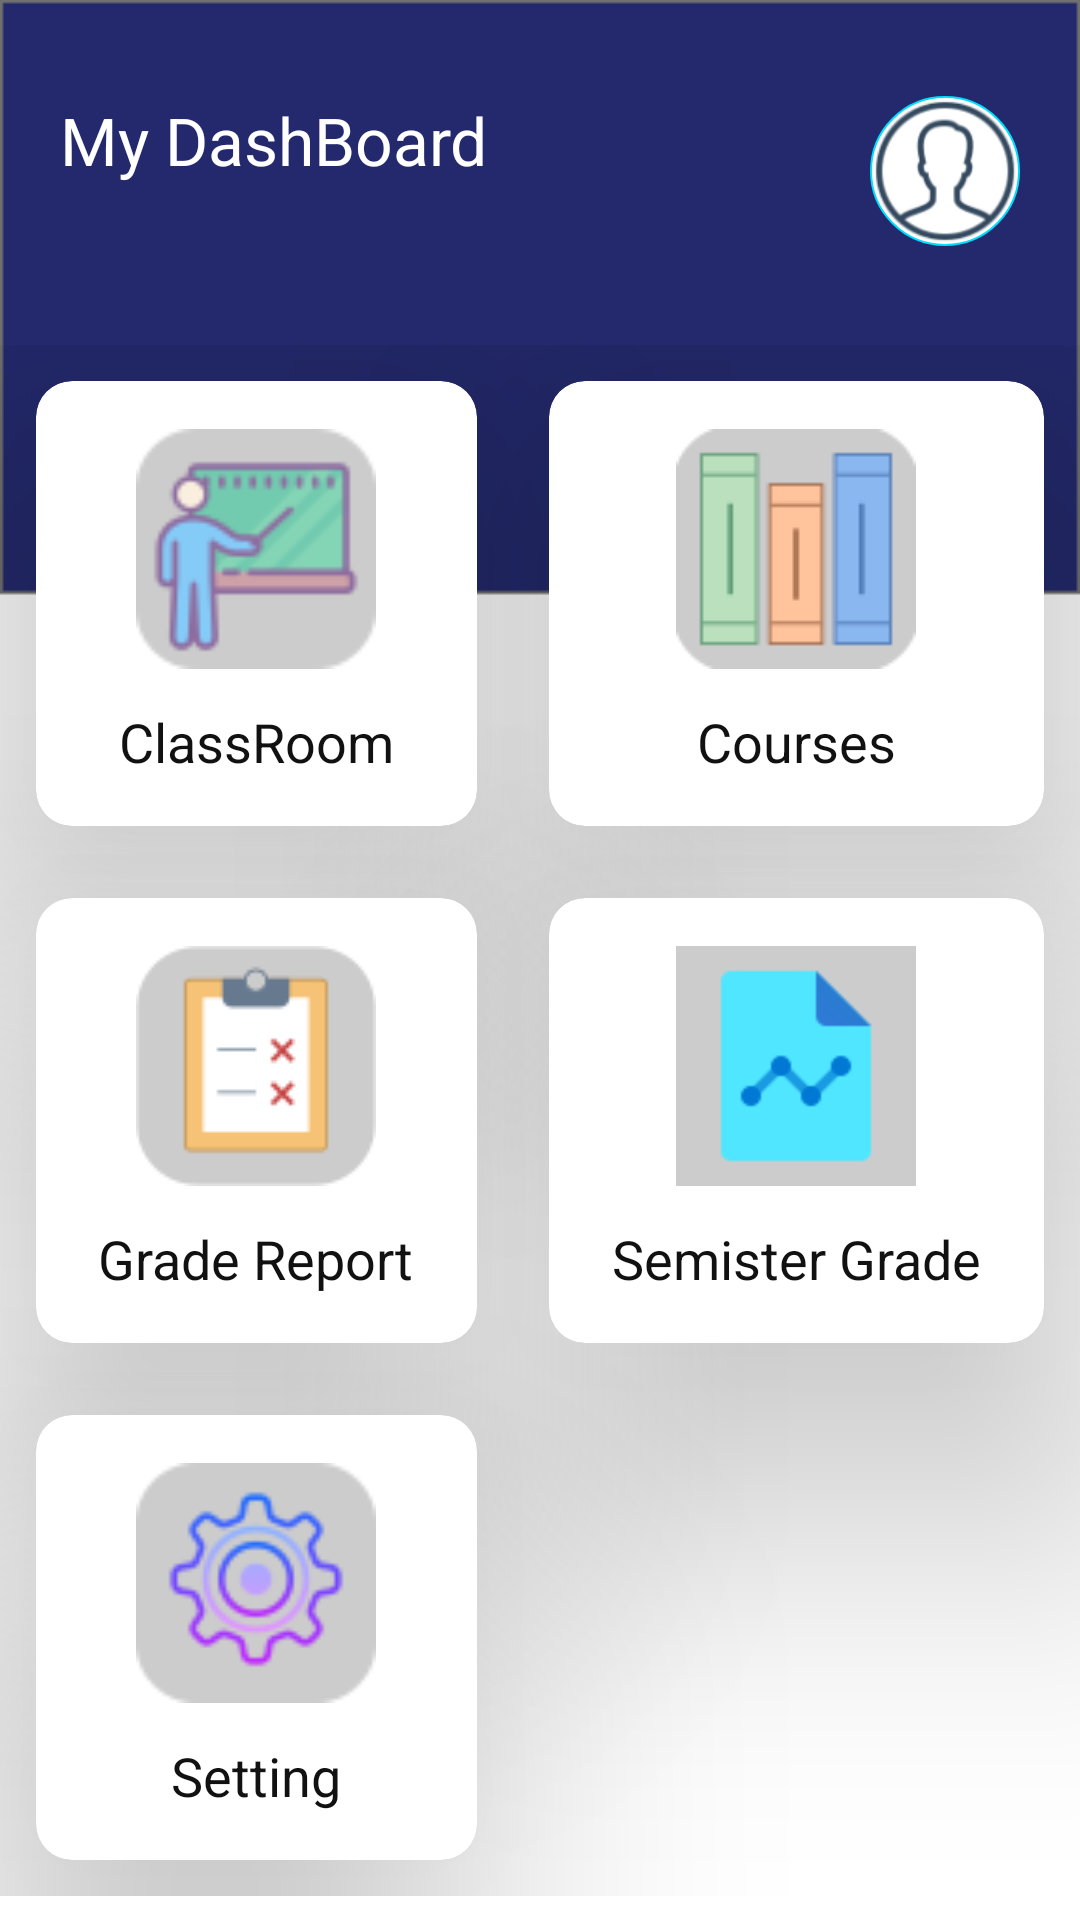

Icons on this 1080 × 1920 Android screen, each with its box as box=[x1, y1, x2, y2]:
graph report: box=[676, 946, 916, 1186]
male: box=[870, 96, 1020, 246]
